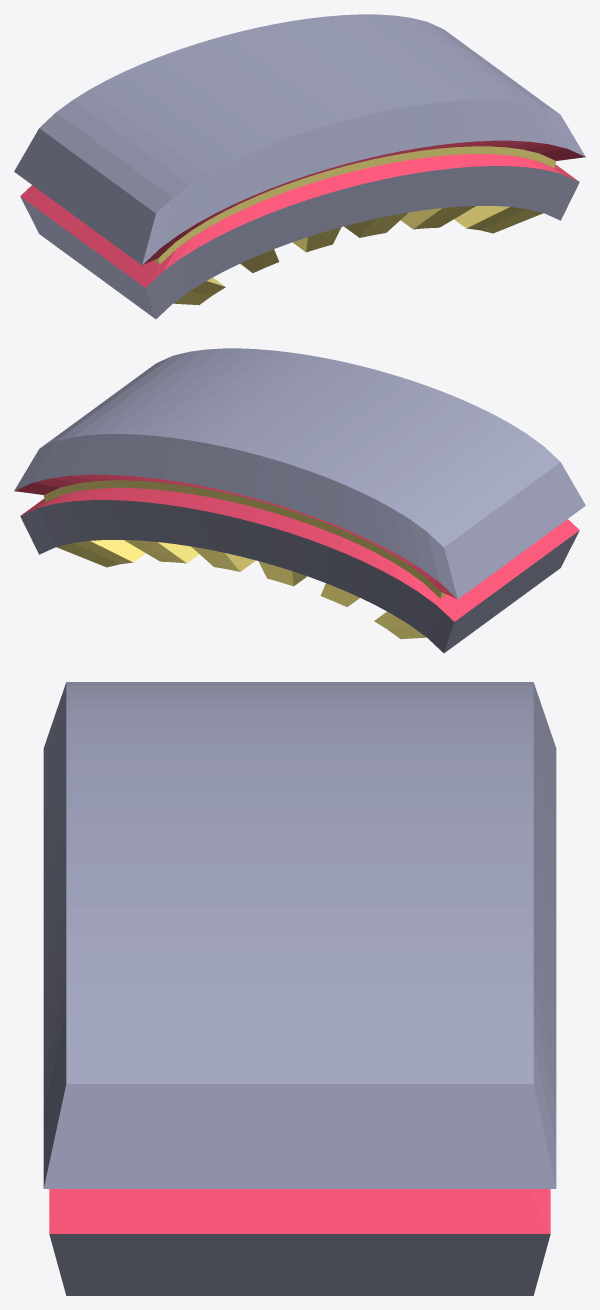
3 views of the same model, one above another, from view 1: azimuth 30°, elevation 25°; view 2: azimuth 150°, elevation 25°; view 3: azimuth 270°, elevation 25° (orthographic). The views are drawn at different scales.
Visible parts, largest first — view 1: Paddle; view 2: Paddle; view 3: Paddle.
Boxes of the visible parts, box(x1,y1,x2,y2) form: Paddle: box(14, 14, 585, 318); Paddle: box(14, 348, 585, 652); Paddle: box(43, 682, 556, 1295).
Size of the model in its own units: 4.39 by 1.52 by 2.19.
